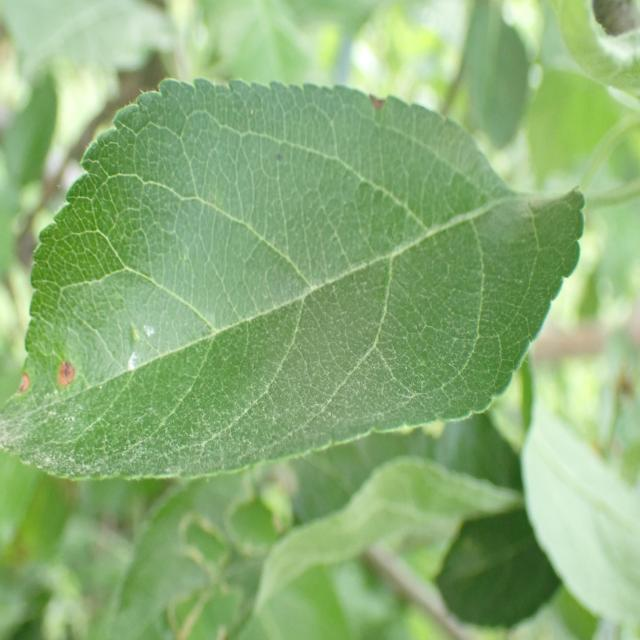Black Rot: (13, 346, 42, 423), (50, 346, 80, 396), (354, 88, 398, 119)
